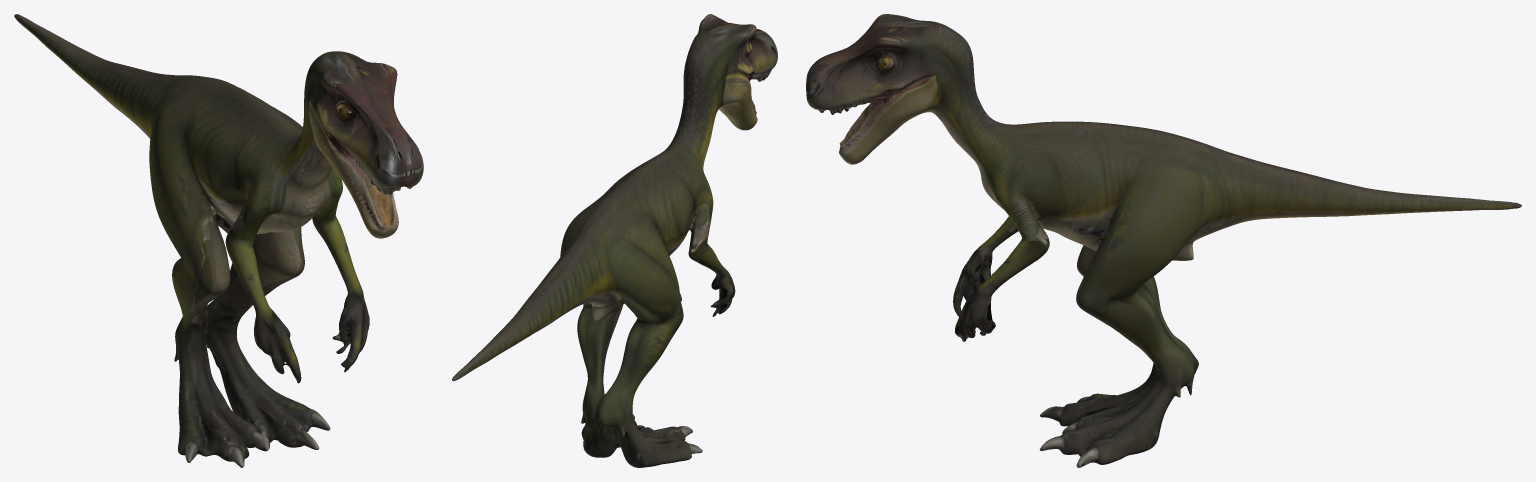
The model's file is dino2.glb.
The picture shows the model from 3 angles, left to right: view 1: azimuth 30°, elevation 25°; view 2: azimuth 150°, elevation 25°; view 3: azimuth 270°, elevation 25°; orthographic projection. The views are drawn at different scales.
Bounding box in the file's own units: 0.417 × 1.27 × 1.99.
Materials: 1 (1 with a texture image).
